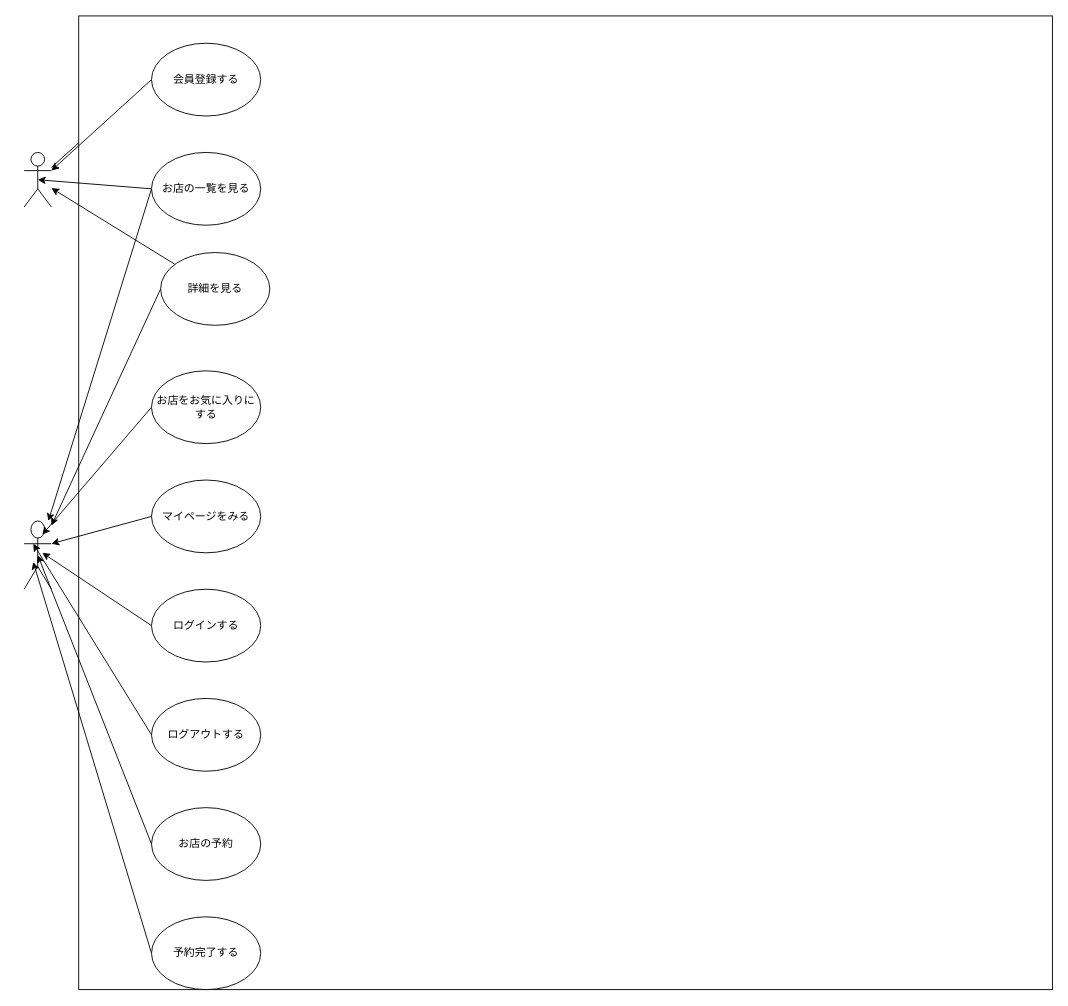
This 1068x1006 diagram has some shape labels left out. Each missing label, with the centre of its shape:
"ユーザー" belongs at [37,554].
"来訪者" belongs at [37,179].
